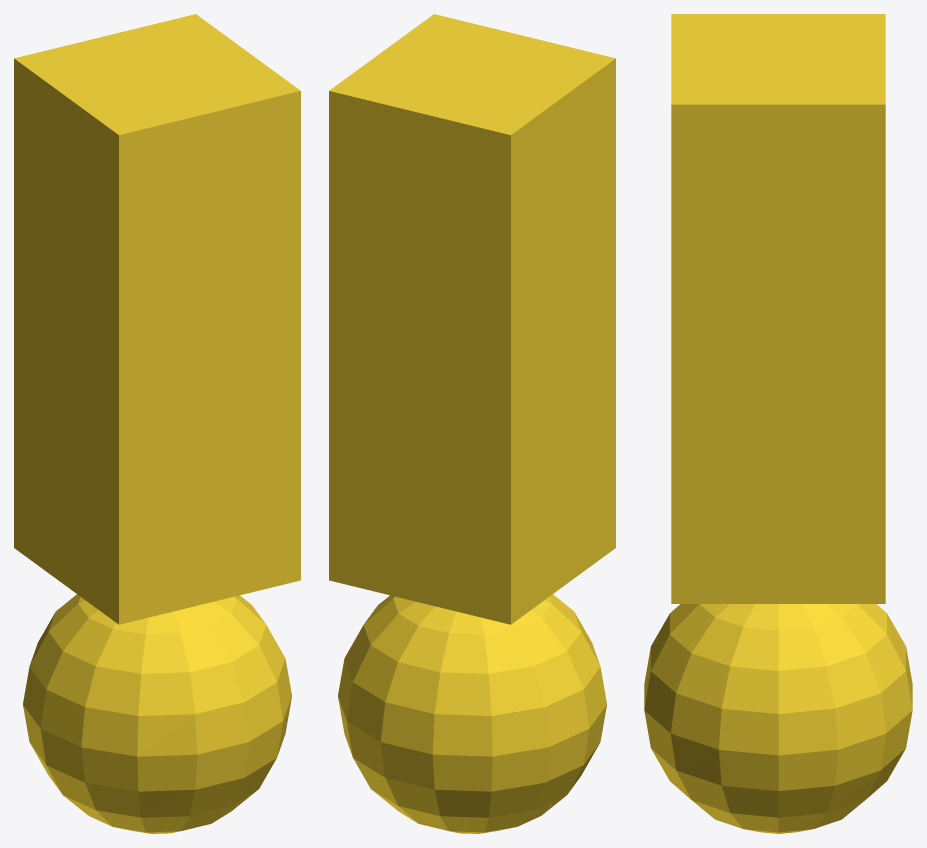
File: Item_Attention.obj
3 renders of one model, left to right at view 1: azimuth 30°, elevation 25°; view 2: azimuth 150°, elevation 25°; view 3: azimuth 270°, elevation 25°, orthographic.
Parts seen in each view (by area): view 1: Item_Attention; view 2: Item_Attention; view 3: Item_Attention.
Part boxes in pixels (x1,y1,x2,y2): Item_Attention: (14, 14, 300, 833); Item_Attention: (329, 14, 615, 833); Item_Attention: (644, 14, 912, 833).
Size of the model in its own units: 0.18 by 0.55 by 0.1754.
